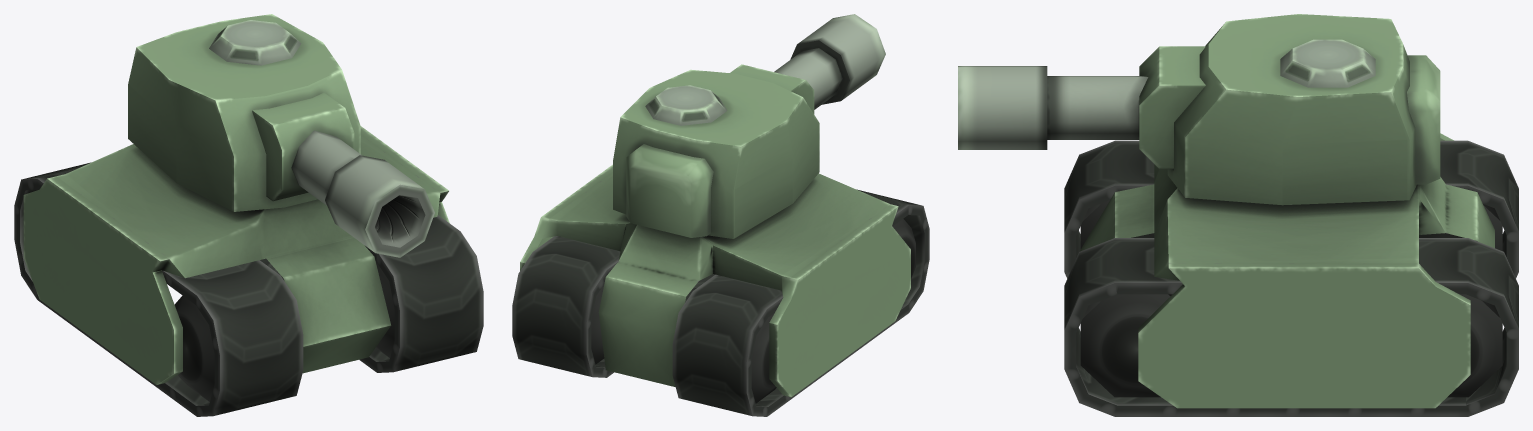
Rendered from red.glb.
3 renders of one model, left to right at view 1: azimuth 30°, elevation 25°; view 2: azimuth 150°, elevation 25°; view 3: azimuth 270°, elevation 25°, orthographic. The views are drawn at different scales.
Parts seen in each view (by area): view 1: Cube.001; view 2: Cube.001; view 3: Cube.001.
Boxes of the visible parts, x1,y1,x2,y2 form: Cube.001: [14, 14, 483, 416]; Cube.001: [512, 14, 929, 416]; Cube.001: [958, 14, 1518, 416].
Bounding box in the file's own units: 294 × 266 × 446.
1 material, 1 textured.
